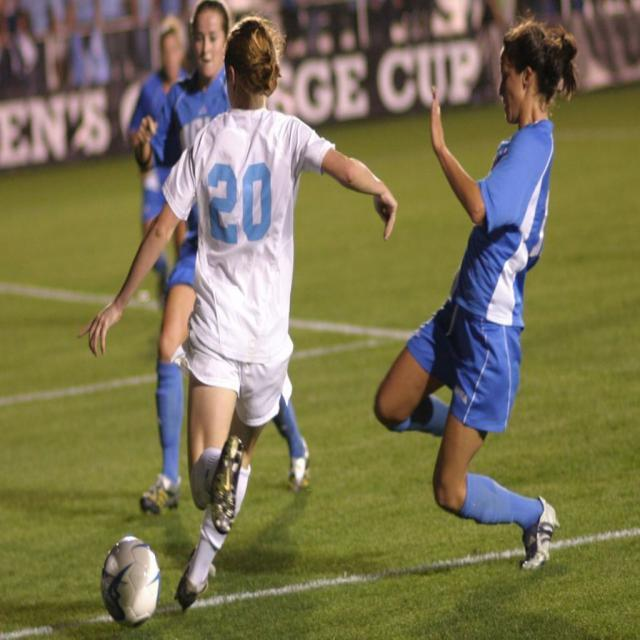football: (74, 527, 188, 628)
